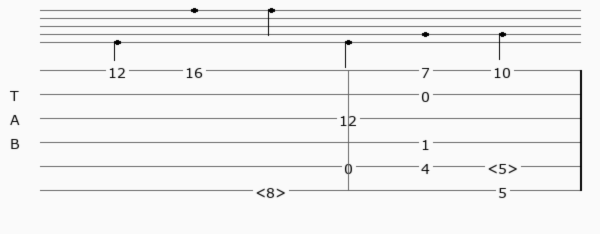0: (344, 159, 357, 173), (421, 87, 434, 101)
1: (421, 135, 434, 149)
10: (493, 63, 515, 77)
12: (108, 63, 130, 77), (339, 111, 361, 125)
16: (185, 63, 207, 77)
4: (421, 159, 434, 173)
5: (498, 183, 511, 197)
7: (421, 63, 434, 77)
harmonic: (255, 183, 290, 197), (487, 159, 522, 173)
